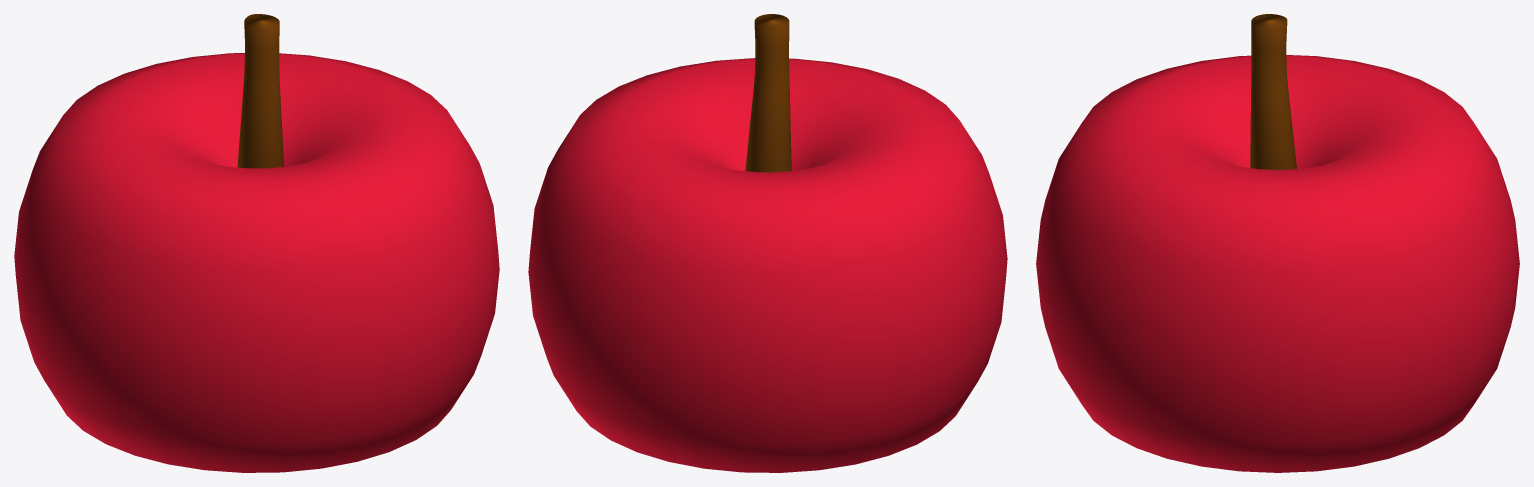
File: apple.glb
The picture shows the model from 3 angles, left to right: view 1: azimuth 30°, elevation 25°; view 2: azimuth 150°, elevation 25°; view 3: azimuth 270°, elevation 25°; orthographic projection.
Parts seen in each view (by area): view 1: Sphere, Cylinder; view 2: Sphere, Cylinder; view 3: Sphere, Cylinder.
Part boxes in pixels (<box>): Sphere: <box>14,53,499,472</box>; Cylinder: <box>237,14,283,168</box>; Sphere: <box>528,58,1007,472</box>; Cylinder: <box>745,14,791,172</box>; Sphere: <box>1036,55,1519,472</box>; Cylinder: <box>1250,14,1296,169</box>.
Bounding box in the file's own units: 2 × 1.76 × 2.
